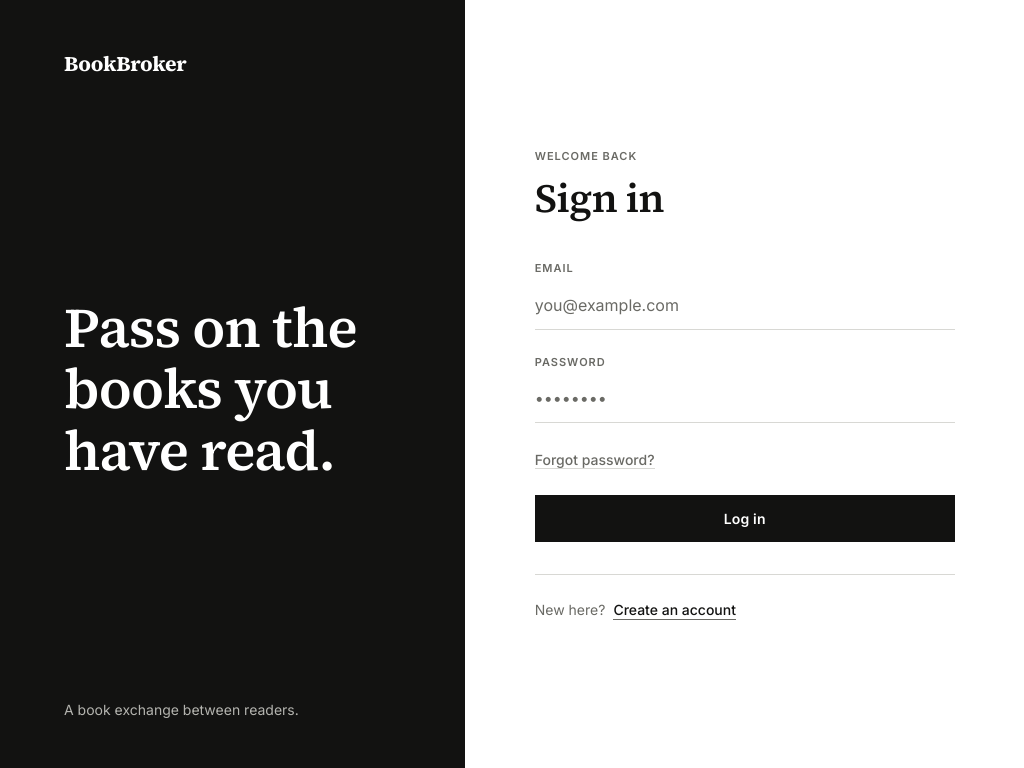
tells a suspended reader their account is suspended and keeps them signed out
Type "reader@example.com" into the field labelled "Email" at coordinates (745, 305), box [535,281,955,330]
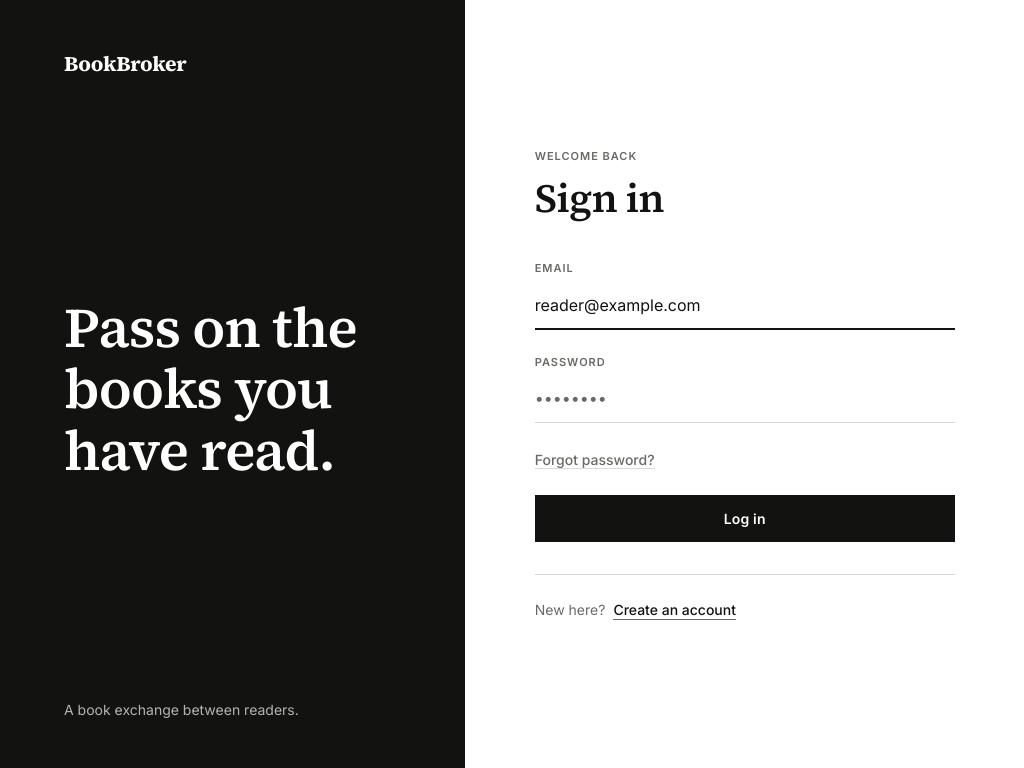
Type "hunter2" into the password field labelled "Password" at coordinates (745, 399), box [535,374,955,423]
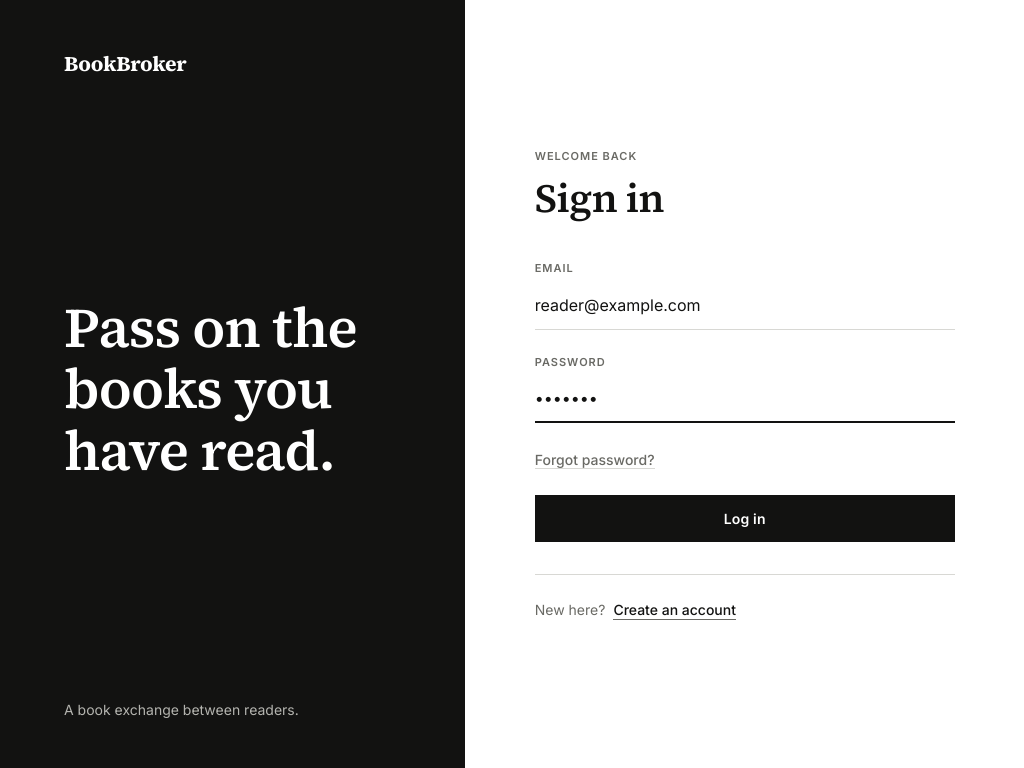
Click the button "Log in" at coordinates (745, 519), box [535,495,955,542]
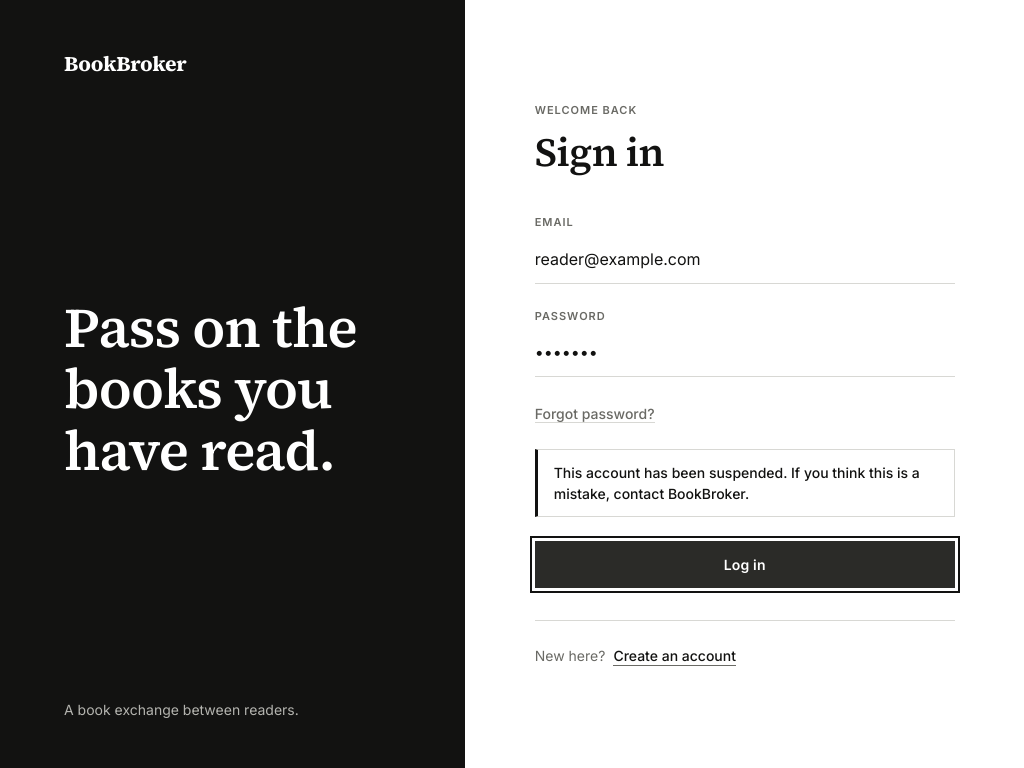
Now the message shows "This account has been suspended.", box [554,464,920,502]
